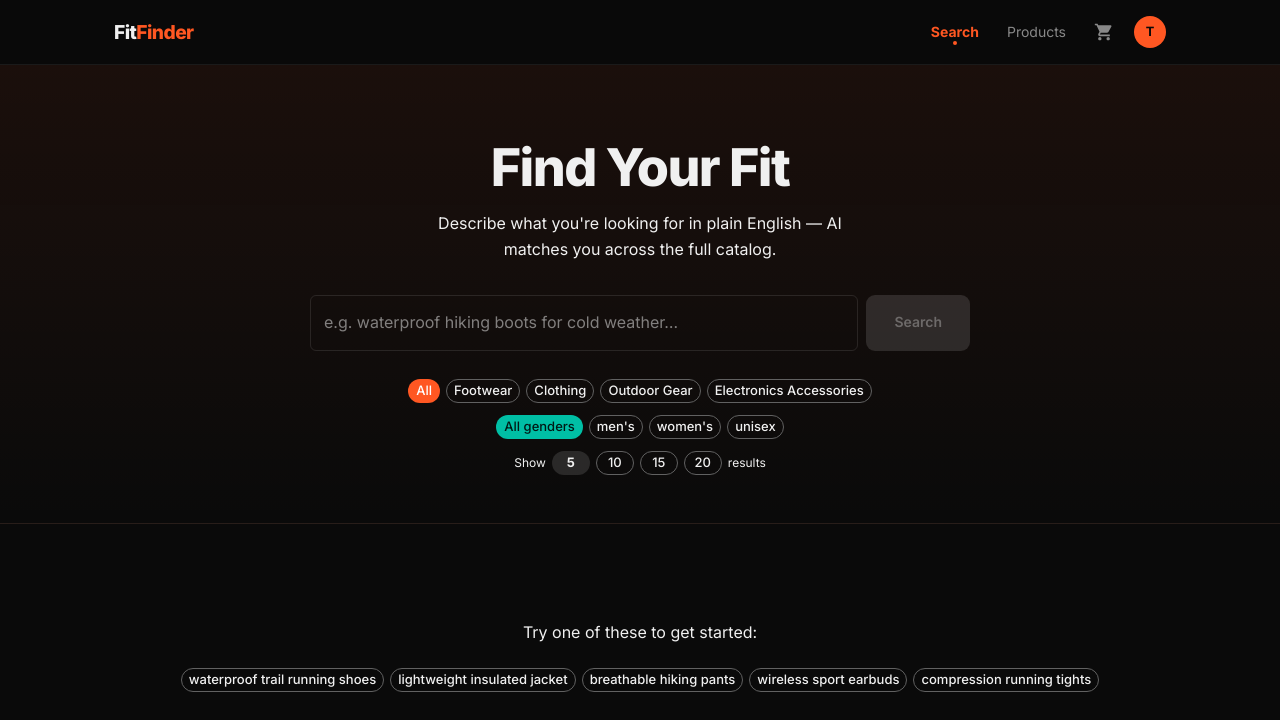
Navbar — logged-in state › clears localStorage and redirects to / on sign out
Step 1. Click the text "T" → click(1150, 32), box [1134,16,1166,48]
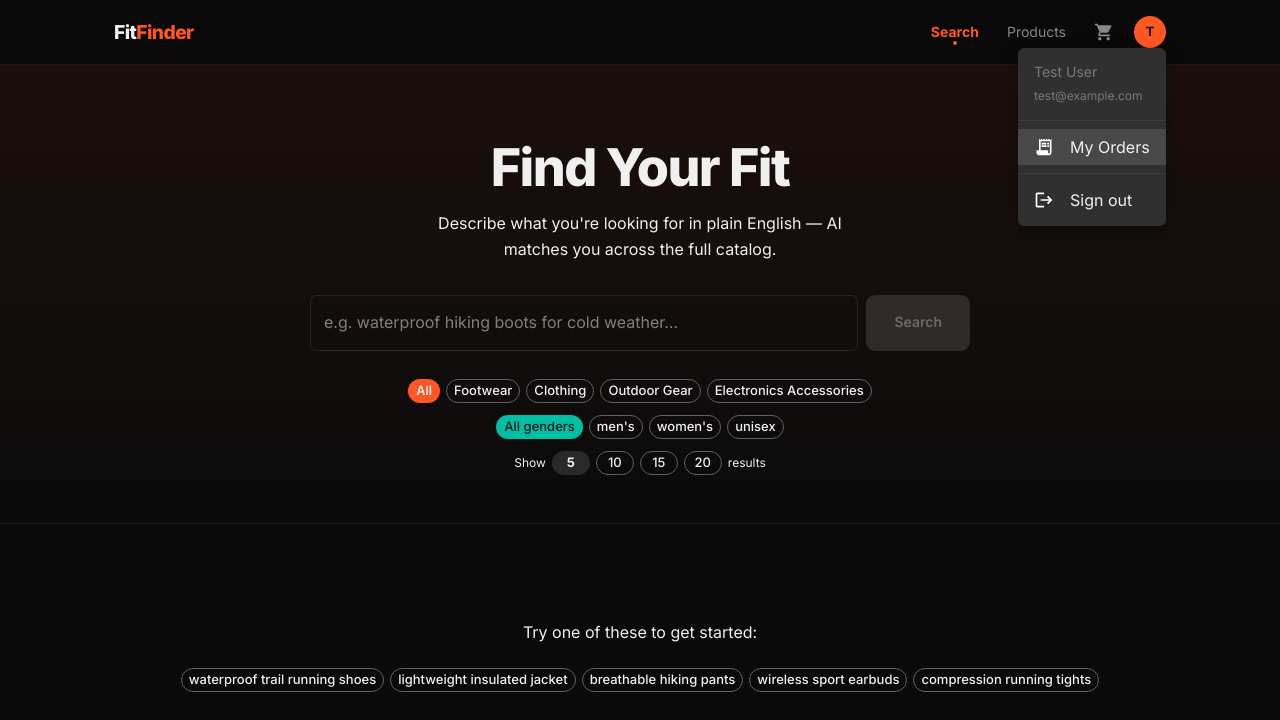
Step 2. Click the menu item "Sign out" → click(1083, 200), box [1034,190,1132,210]
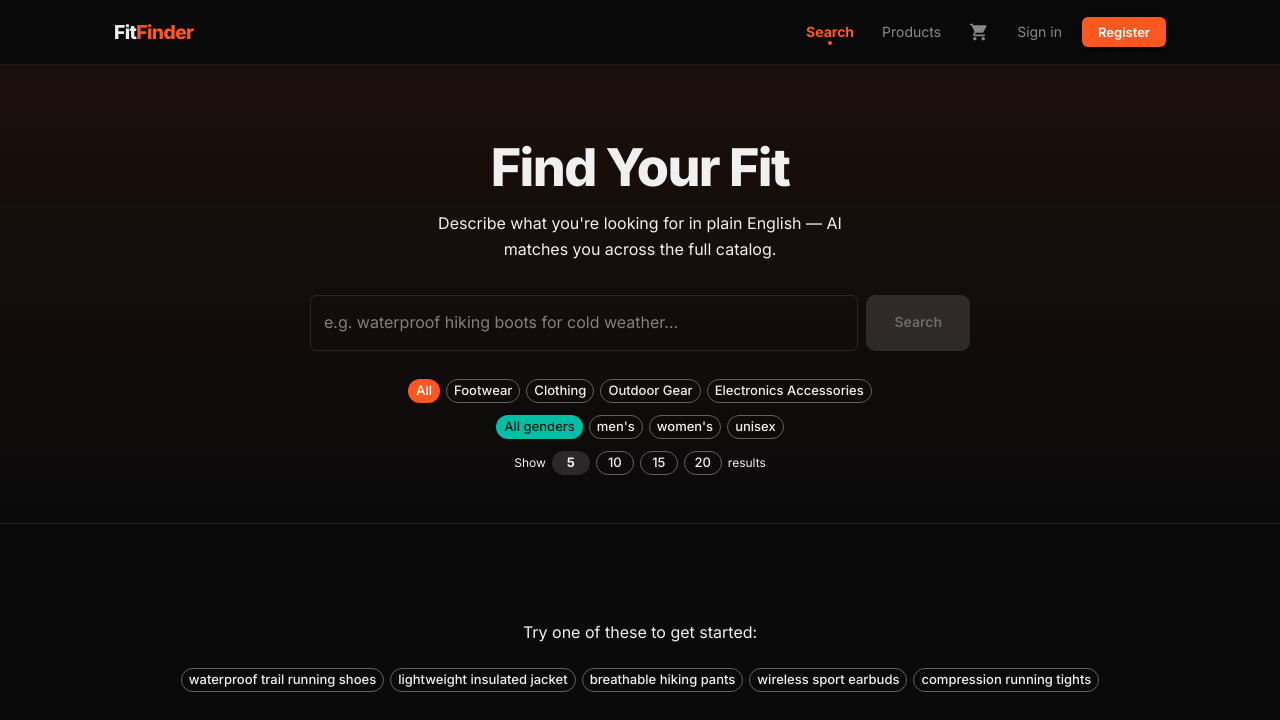
Result: the link "Sign in" is shown at [1017,23,1062,40]
